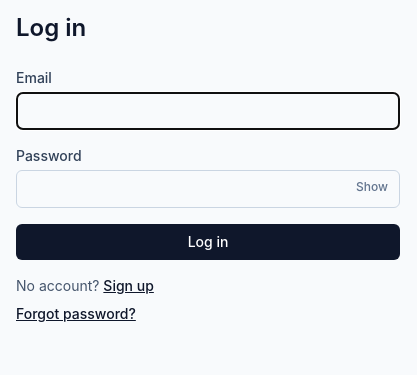
Scenario: LoginPage › submits valid credentials and shows the server error on failure
The width and height of the screenshot is (417, 375).
Type "alice@campus.edu" into the field labelled "Email" at (208, 111), box [16,92,400,130]
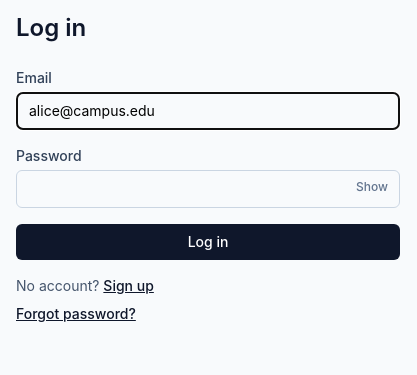
Type "wrongpassword" into the password field labelled "Password" at (208, 189), box [16,170,400,208]
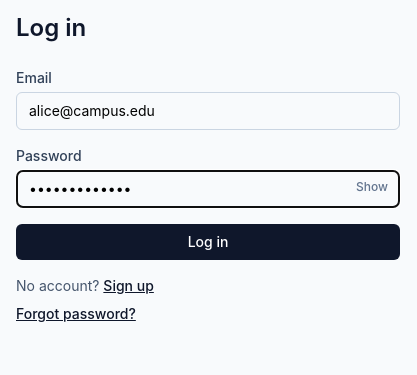
Click the button "Log in" at (208, 242), box [16,224,400,260]
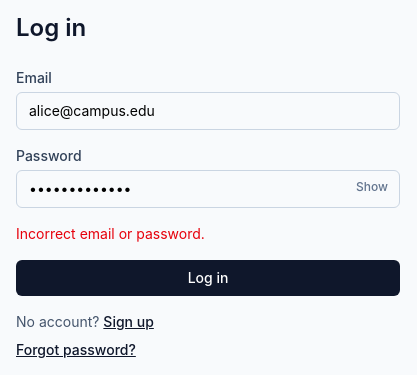
Now the text "Incorrect email or password." is shown, box [16,225,205,242]
